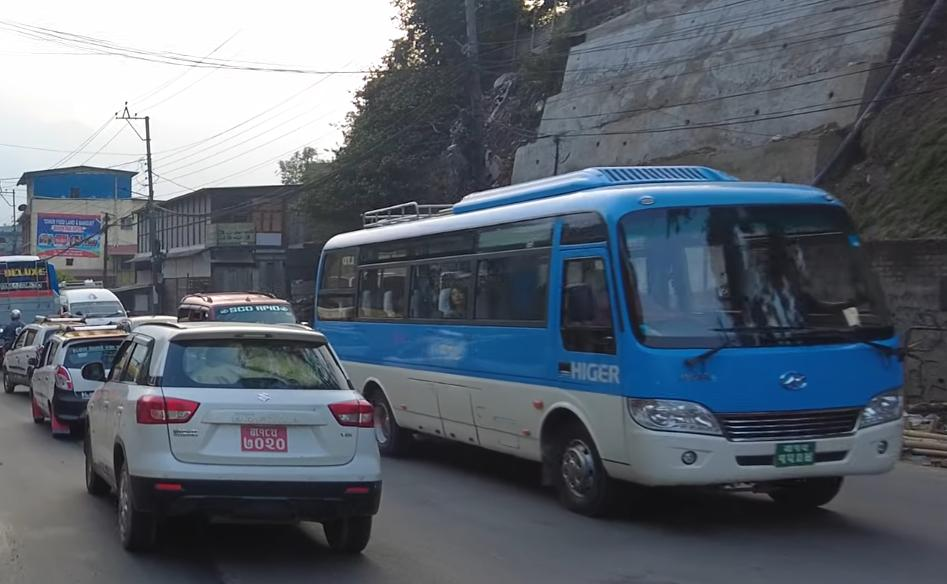SUV: (173, 282, 305, 335)
bus: (304, 151, 919, 513), (0, 250, 63, 330)
car: (72, 315, 385, 564)
micro_bus: (56, 279, 129, 319)
taxi: (22, 320, 127, 440)
